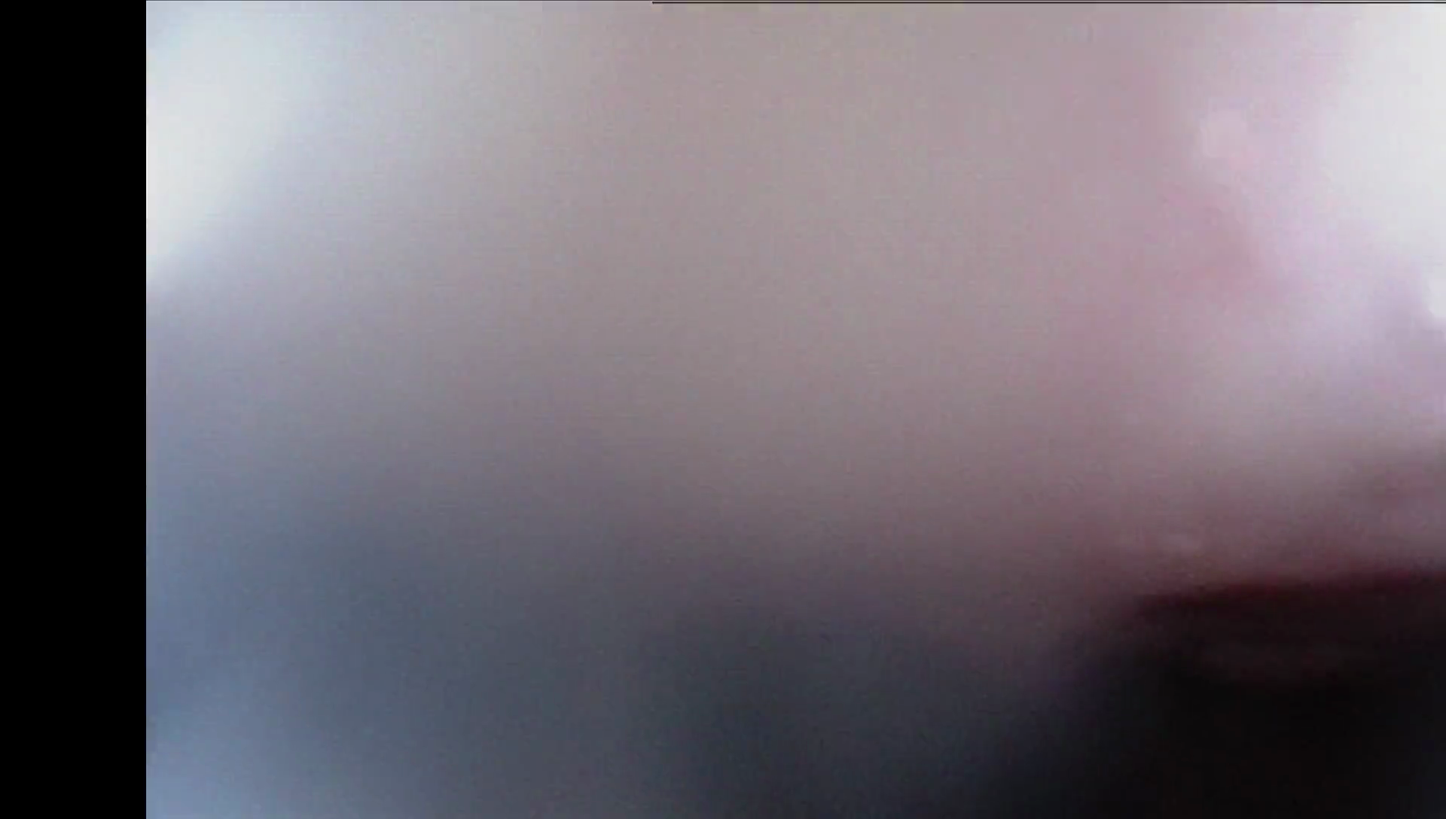close_wall: (155, 0, 1446, 508)
next: (1034, 558, 1446, 819)
